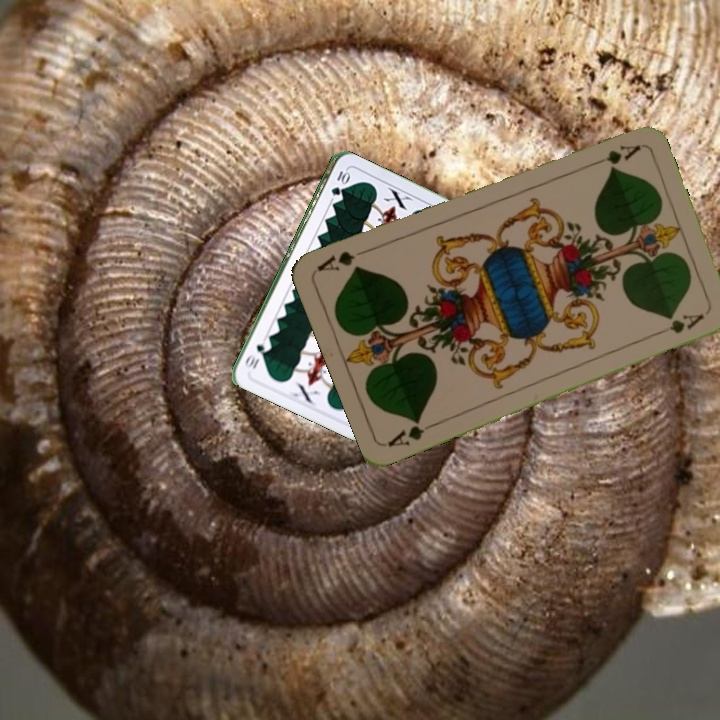G10: (327, 166, 350, 199)
GA: (384, 415, 440, 450), (585, 140, 643, 170)
